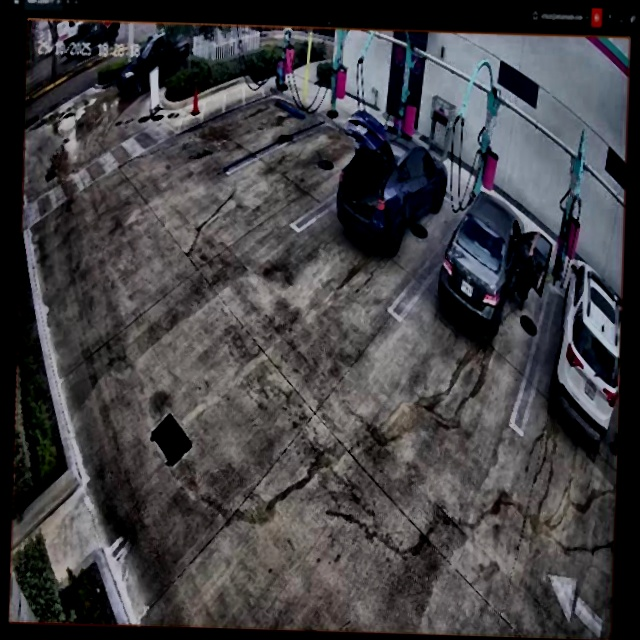Car: (336, 109, 449, 250), (438, 194, 548, 334)
